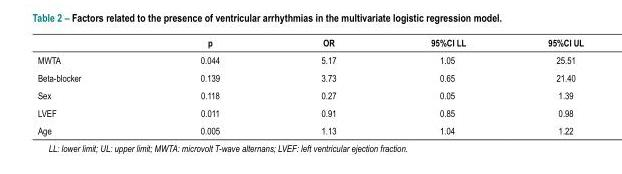table: (36, 36, 583, 135)
table column: (140, 36, 269, 135), (382, 36, 506, 135), (269, 36, 382, 135), (36, 36, 140, 135), (506, 36, 583, 135)
table column header: (36, 36, 583, 50)
table row: (36, 50, 583, 68), (36, 68, 583, 86), (36, 103, 583, 121), (36, 86, 583, 103), (36, 36, 583, 50), (36, 121, 583, 135)
